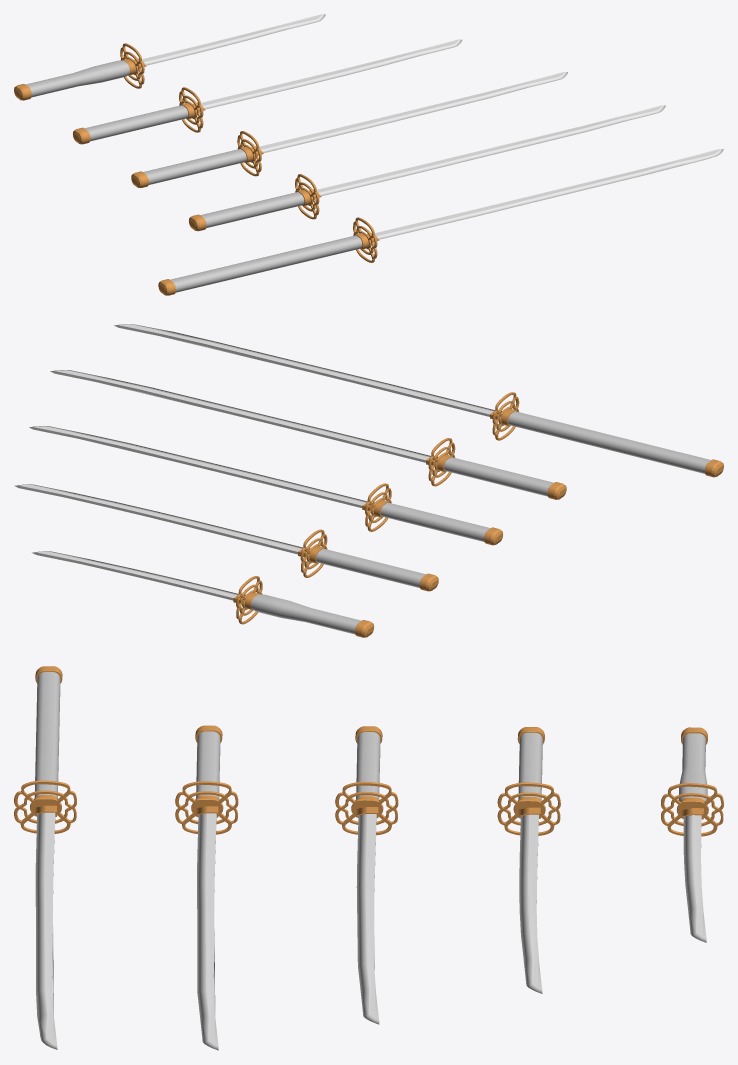
File: katanas.obj
3 views of the same model, one above another, from view 1: azimuth 30°, elevation 25°; view 2: azimuth 150°, elevation 25°; view 3: azimuth 270°, elevation 25° (orthographic). The views are drawn at different scales.
Parts seen in each view (by area): view 1: handgrip1.004_handgrip1.006, blade.004_blade.006, blade.003_blade.005, blade.002_blade.004, blade, handgrip1.001, handgrip1.003_handgrip1.005, handgrip1, handgrip1.002_handgrip1.004, blade.001, tsuba, tsuba.003_tsuba.005 (+3 smaller); view 2: handgrip1.004_handgrip1.006, blade.004_blade.006, blade.003_blade.005, blade.002_blade.004, blade, handgrip1.001, handgrip1.003_handgrip1.005, handgrip1.002_handgrip1.004, handgrip1, blade.001, tsuba.003_tsuba.005, tsuba.004_tsuba.006 (+3 smaller); view 3: blade.004_blade.006, blade.003_blade.005, blade.002_blade.004, blade, handgrip1.004_handgrip1.006, blade.001, tsuba, tsuba.003_tsuba.005, tsuba.002_tsuba.004, tsuba.004_tsuba.006, tsuba.001, handgrip1.001 (+3 smaller).
Part boxes in pixels (x1,y1,x2,y2): handgrip1.004_handgrip1.006: (170, 235, 362, 292); blade.004_blade.006: (374, 149, 723, 239); blade.003_blade.005: (316, 105, 665, 196); blade.002_blade.004: (259, 72, 567, 153); blade: (200, 39, 462, 109); handgrip1.001: (26, 60, 130, 97); handgrip1.003_handgrip1.005: (200, 192, 304, 228); handgrip1: (84, 105, 188, 141); handgrip1.002_handgrip1.004: (143, 149, 246, 184); blade.001: (142, 14, 325, 65); tsuba: (179, 87, 203, 132); tsuba.003_tsuba.005: (295, 174, 319, 219); handgrip1.004_handgrip1.006: (508, 411, 711, 473); blade.004_blade.006: (114, 324, 494, 416); blade.003_blade.005: (50, 370, 430, 462); blade.002_blade.004: (29, 426, 367, 507); blade: (14, 484, 302, 554); handgrip1.001: (251, 594, 361, 634); handgrip1.003_handgrip1.005: (444, 457, 553, 496); handgrip1.002_handgrip1.004: (380, 502, 490, 541); handgrip1: (316, 548, 425, 587); blade.001: (32, 551, 238, 600); tsuba.003_tsuba.005: (428, 438, 455, 486); tsuba.004_tsuba.006: (492, 392, 519, 440); blade.004_blade.006: (35, 812, 57, 1049); blade.003_blade.005: (197, 813, 218, 1050); blade.002_blade.004: (356, 814, 379, 1024); blade: (519, 814, 542, 993); handgrip1.004_handgrip1.006: (34, 672, 60, 797); blade.001: (683, 815, 706, 942); tsuba: (497, 782, 560, 835); tsuba.003_tsuba.005: (175, 781, 238, 834); tsuba.002_tsuba.004: (335, 781, 398, 835); tsuba.004_tsuba.006: (14, 780, 76, 833); tsuba.001: (661, 783, 723, 836); handgrip1.001: (678, 733, 707, 801).
Size of the model in its own units: 11.01 by 0.7197 by 8.74.
